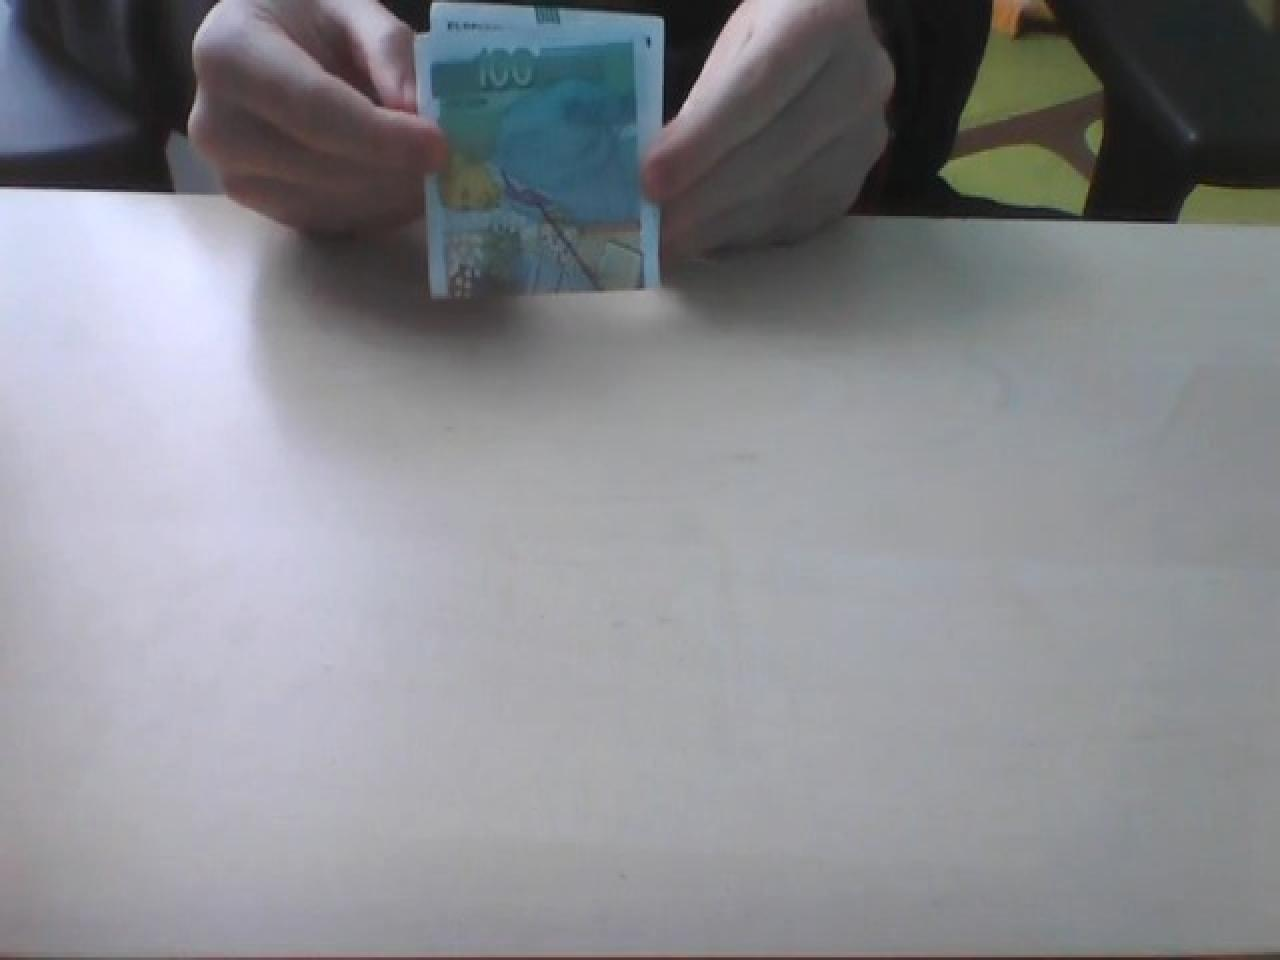100leva: (412, 3, 666, 305)
